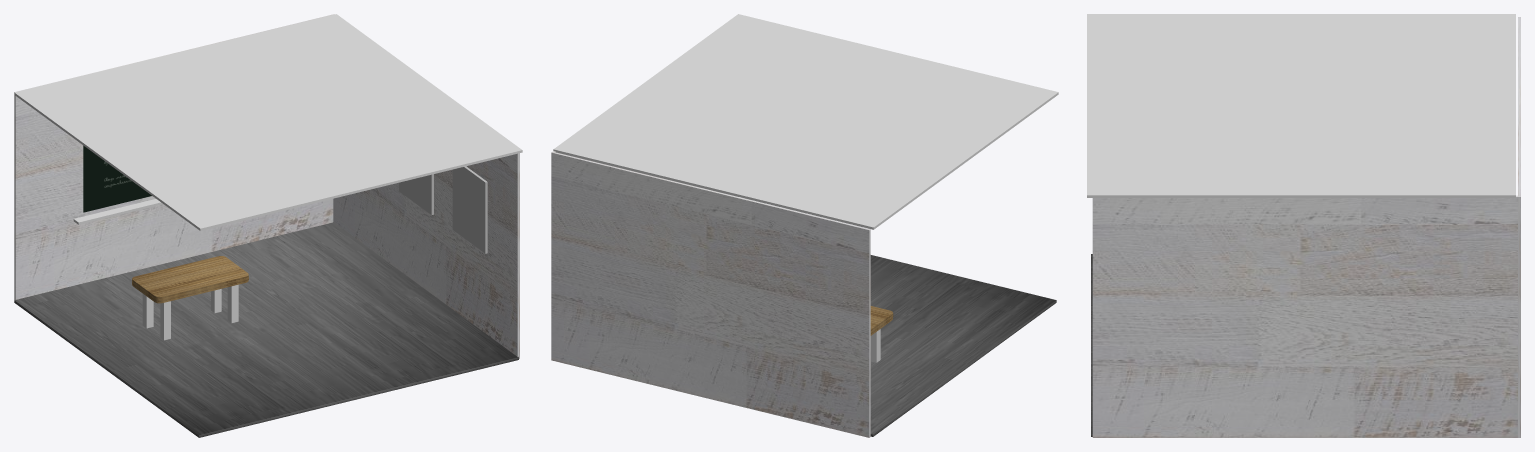
The model's file is room.fbx.
3 views of the same model, side by side, from view 1: azimuth 30°, elevation 25°; view 2: azimuth 150°, elevation 25°; view 3: azimuth 270°, elevation 25° (orthographic). The views are drawn at different scales.
Parts seen in each view (by area): view 1: Box005, Box001, Box003, Box002, Box006, Box013, board, Box012, Box014; view 2: Box003, Box005, Box001; view 3: Box002, Box005, Box003.
Part boxes in pixels (x1,y1,x2,y2): Box005: [14, 14, 522, 230]; Box001: [14, 222, 518, 437]; Box003: [14, 14, 334, 300]; Box002: [333, 153, 519, 358]; Box006: [132, 256, 248, 303]; Box013: [452, 166, 487, 253]; board: [83, 145, 151, 212]; Box012: [399, 174, 433, 214]; Box014: [73, 199, 163, 224]; Box003: [551, 152, 870, 437]; Box005: [553, 14, 1058, 229]; Box001: [870, 255, 1056, 436]; Box002: [1092, 195, 1518, 437]; Box005: [1087, 14, 1515, 197]; Box003: [1518, 17, 1520, 437].
Bounding box in the file's own units: 142 × 88.69 × 144.
